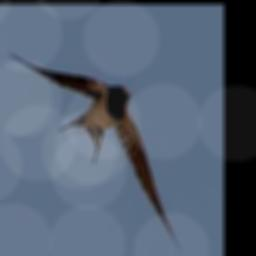Swallow: (8, 53, 182, 253)
